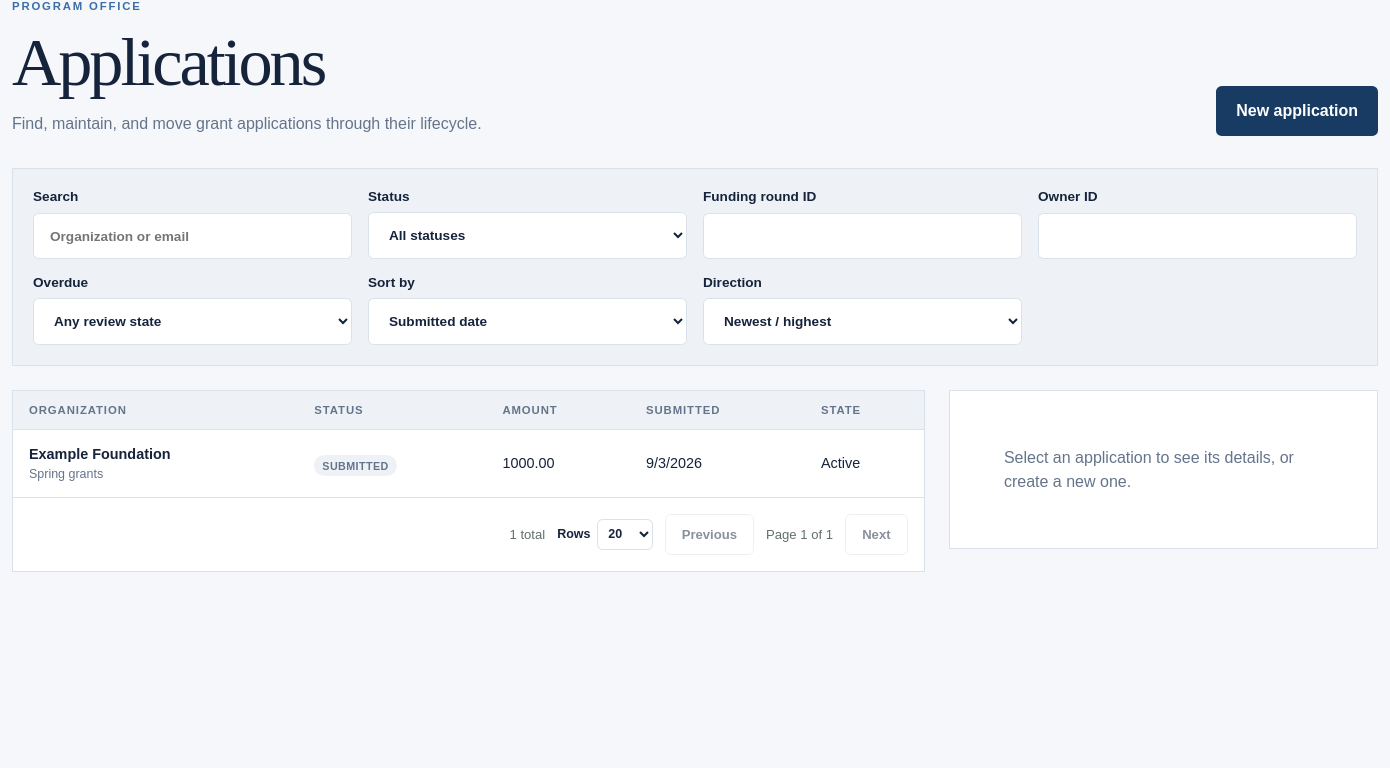
Scenario: Program Officer assignment management › deletes one active incomplete assignment, keeps completed assignments non-removable, and surfaces refusal errors
Click the button "Example Foundation". click: coordinates (100, 454)
box: 29,446 -> 170,462
(page scrolled)
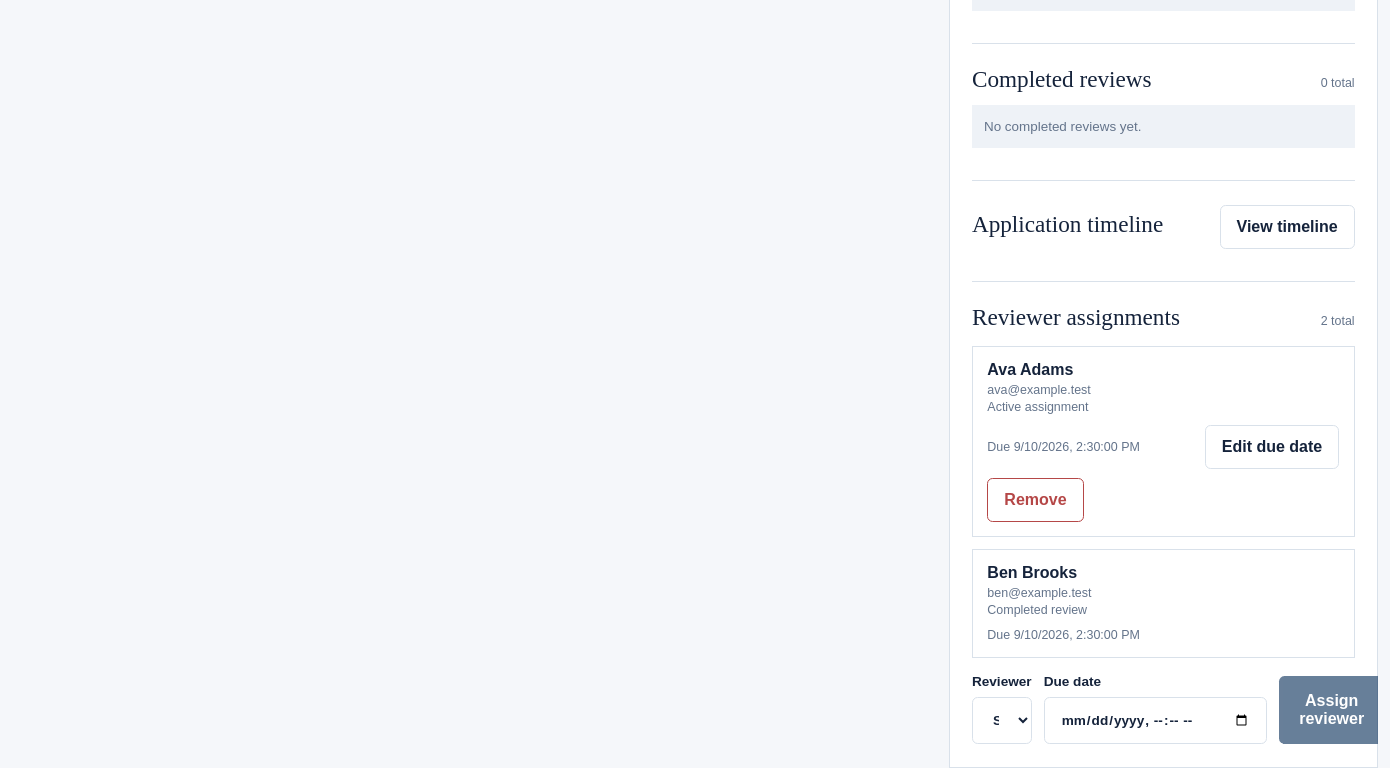
Expected: the number of buttons "Remove" is 1
Click the button "Remove". click: coordinates (1035, 500)
box: 987,478 -> 1084,522
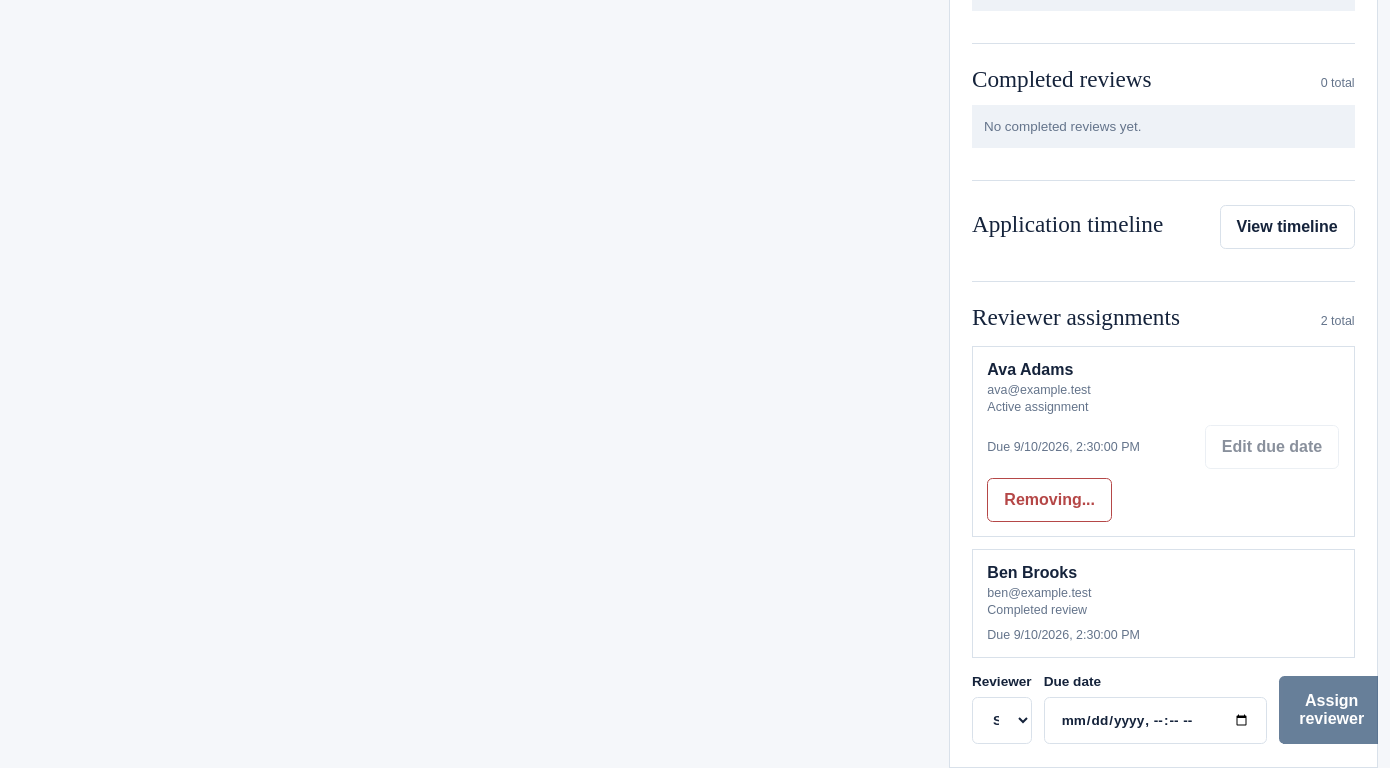
Click the button named "Remove". click: coordinates (1050, 500)
box: 987,478 -> 1112,522
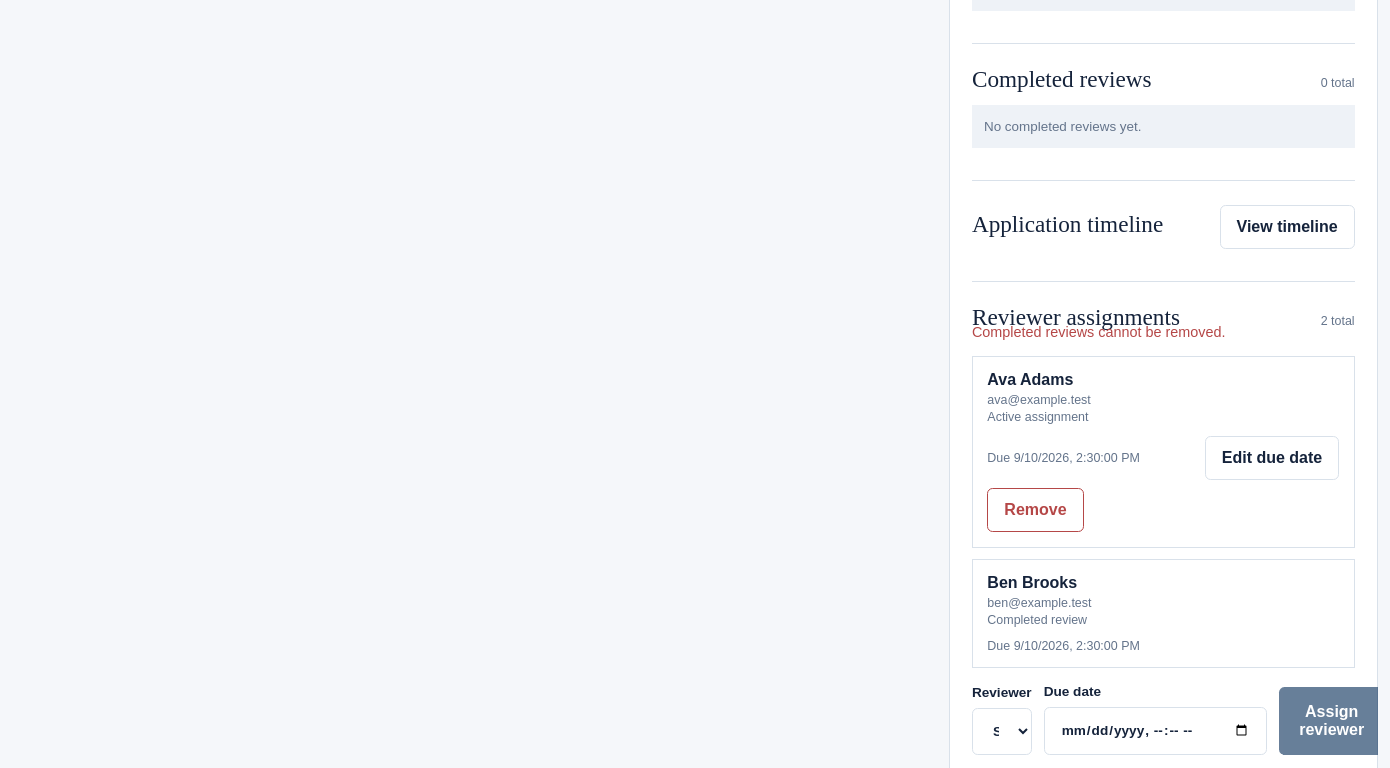
Expected: the message reads "Completed reviews cannot be removed.", 972,324 -> 1226,340
